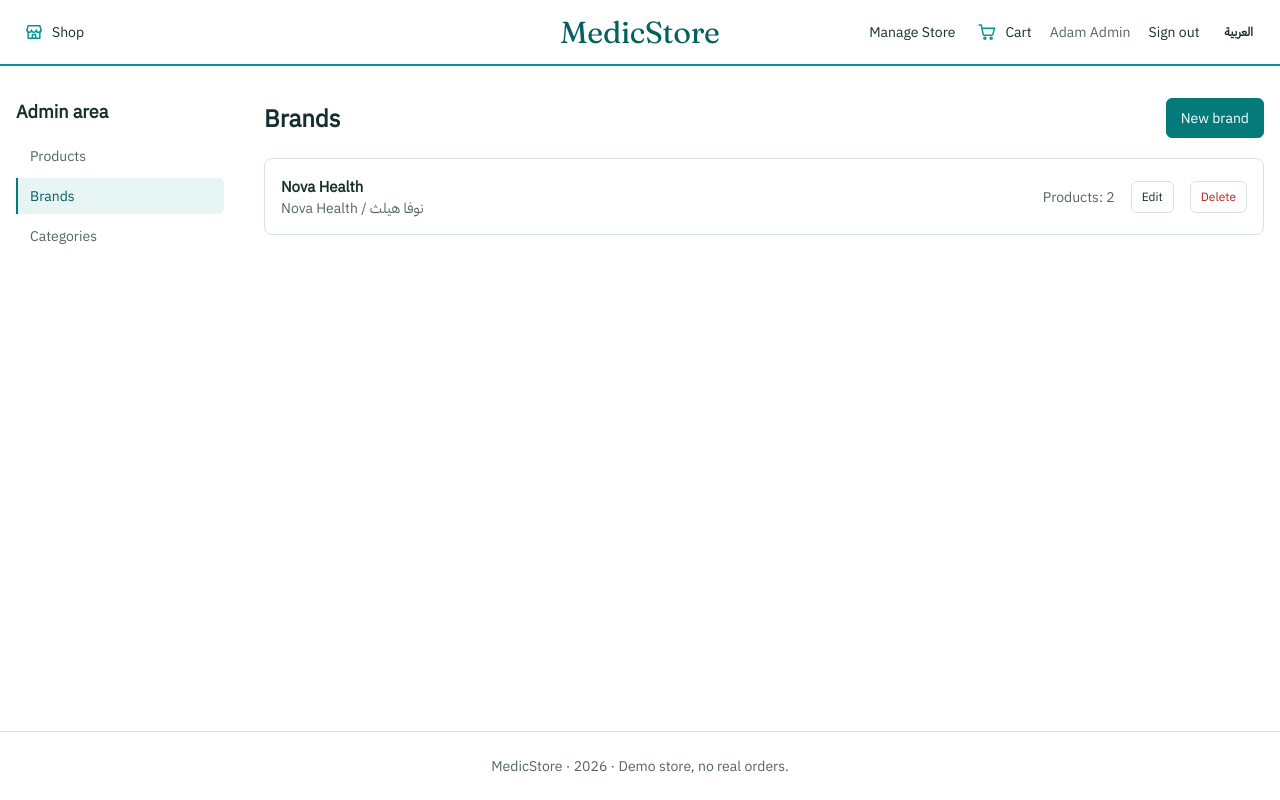
Scenario: Escape also closes the confirmation
The width and height of the screenshot is (1280, 800).
Click the button "Delete": (1218, 197) x1=1190 y1=181 x2=1247 y2=213
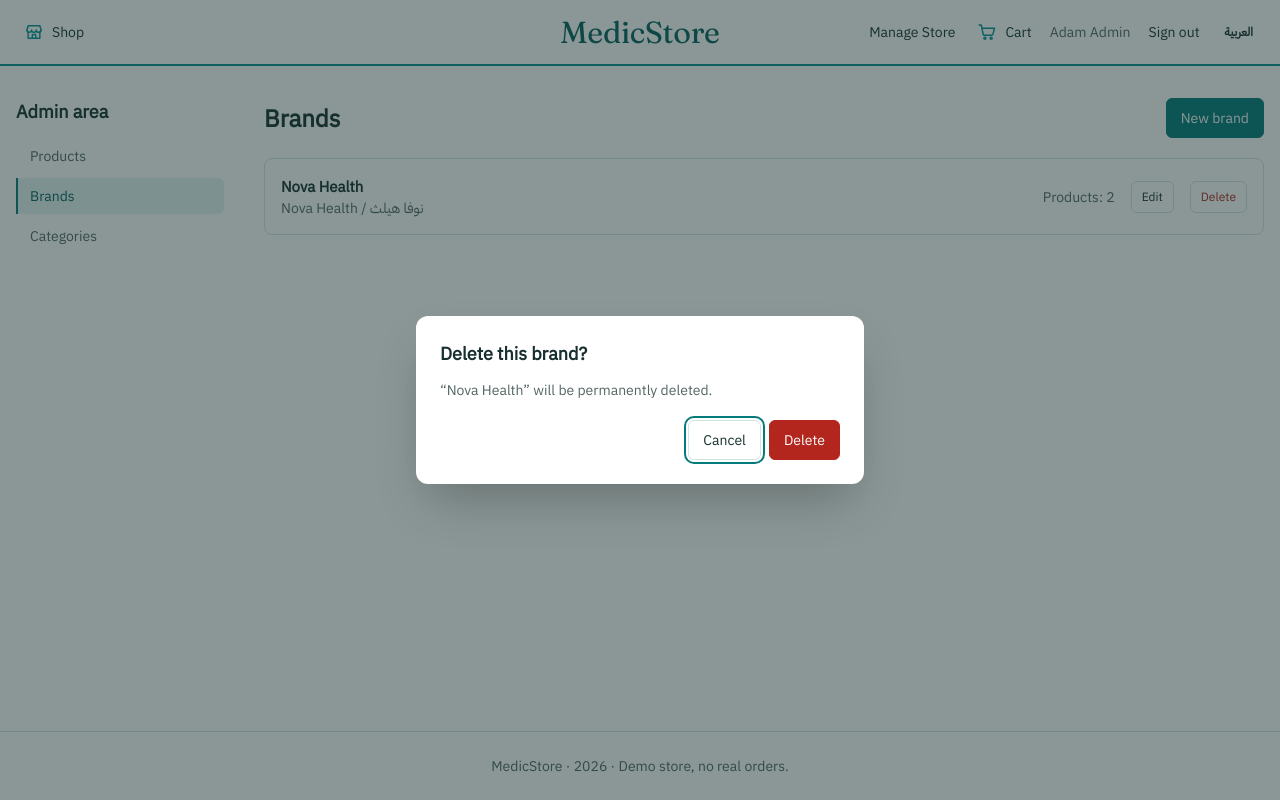
Press Escape
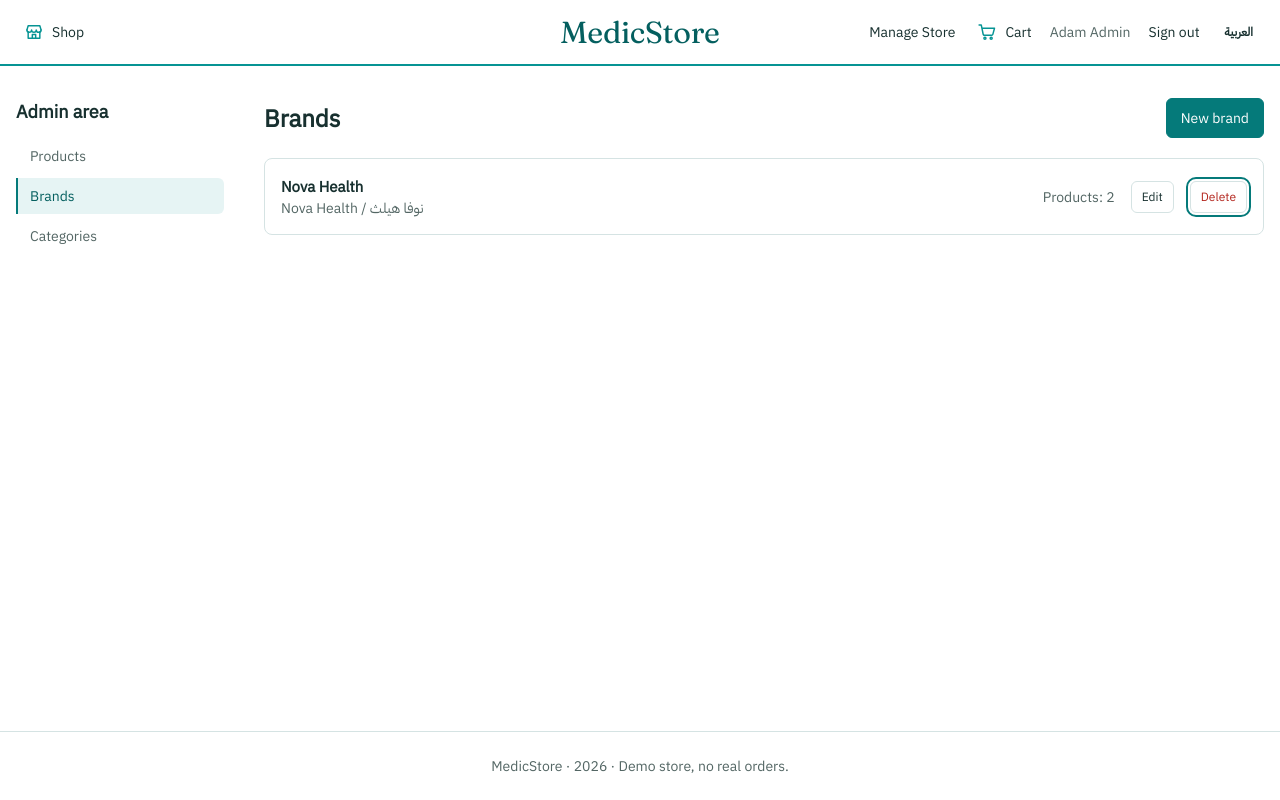
Result: the dialog is gone
